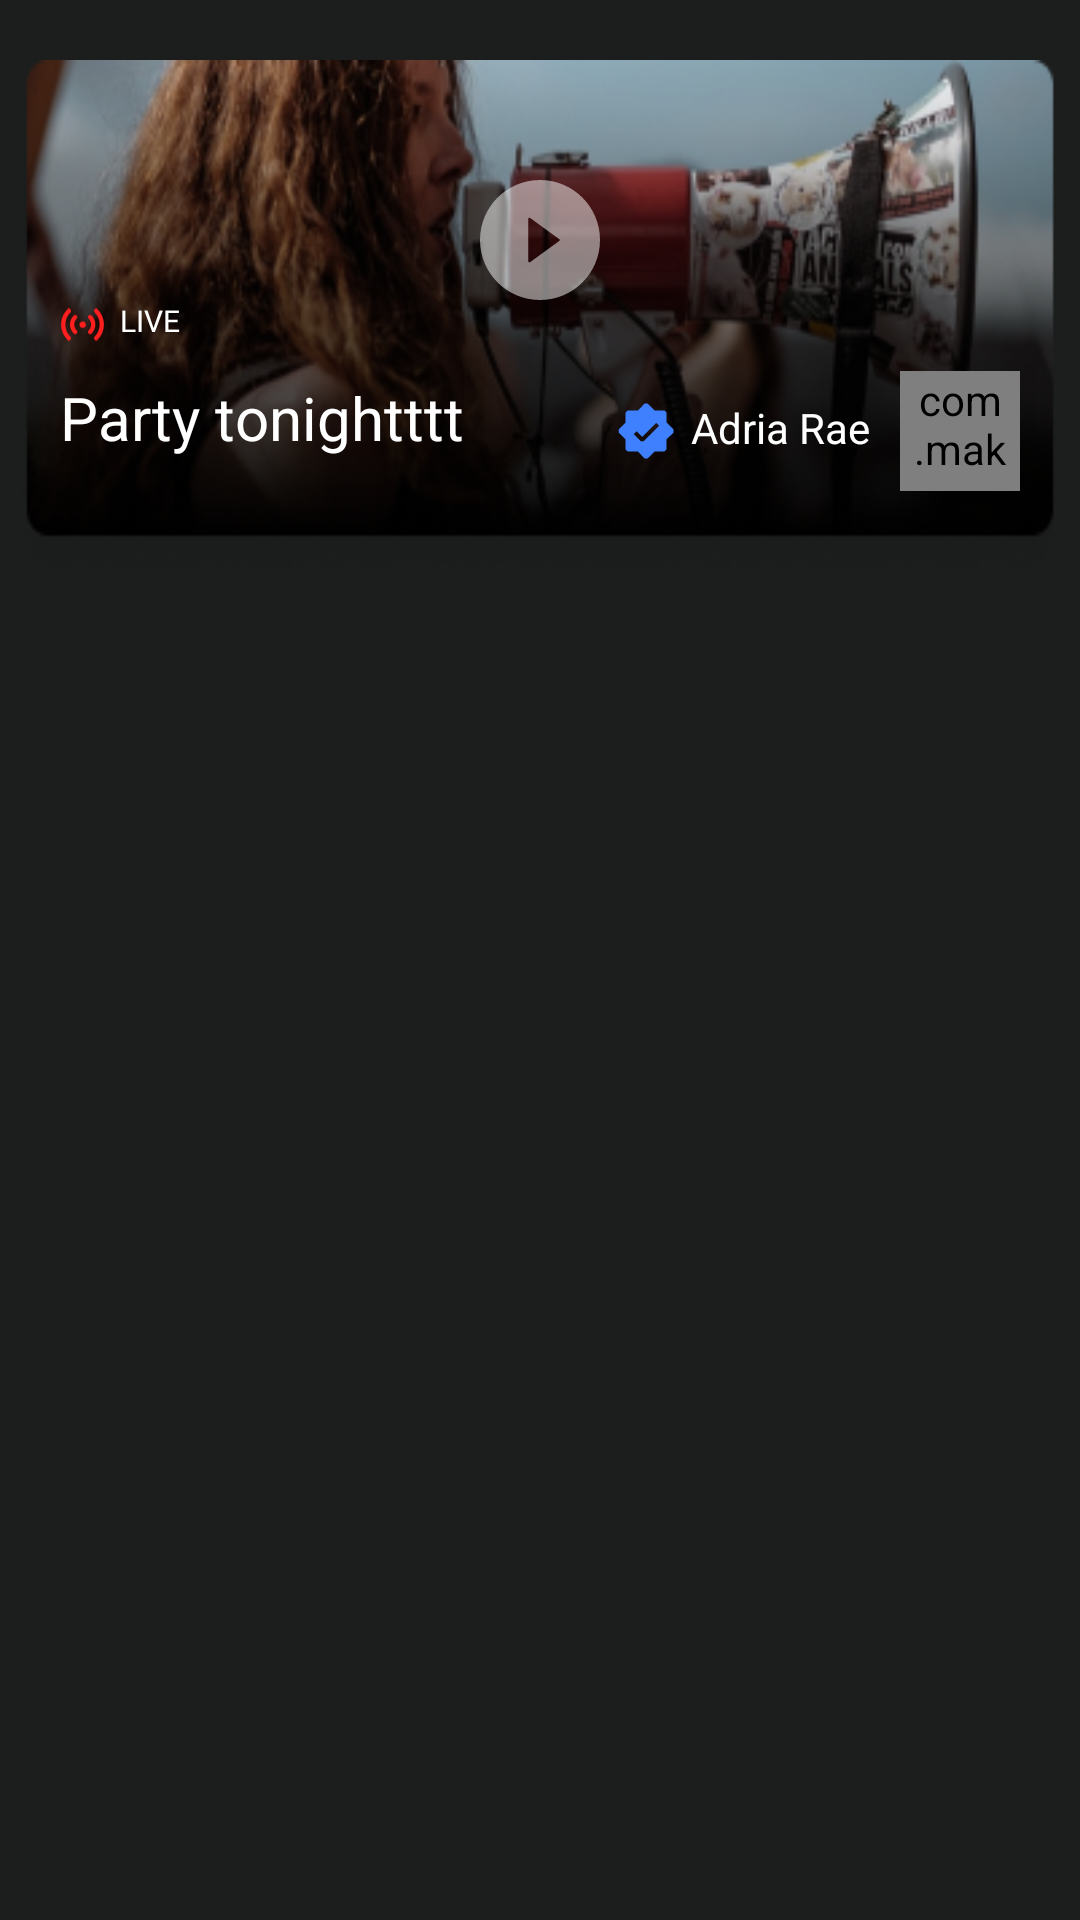

Icon click points for this 1080x1920 phone screenshot, format (x,y):
mark: (646,431)
play: (540,240)
